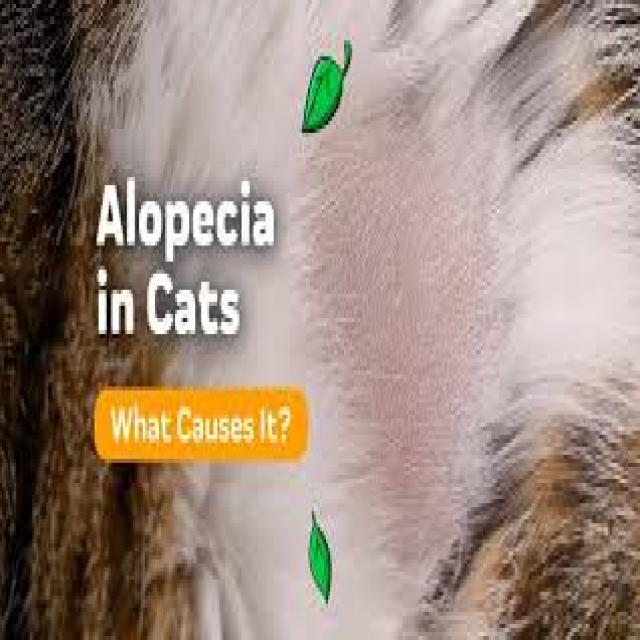cat-hairloss: (312, 137, 488, 520)
